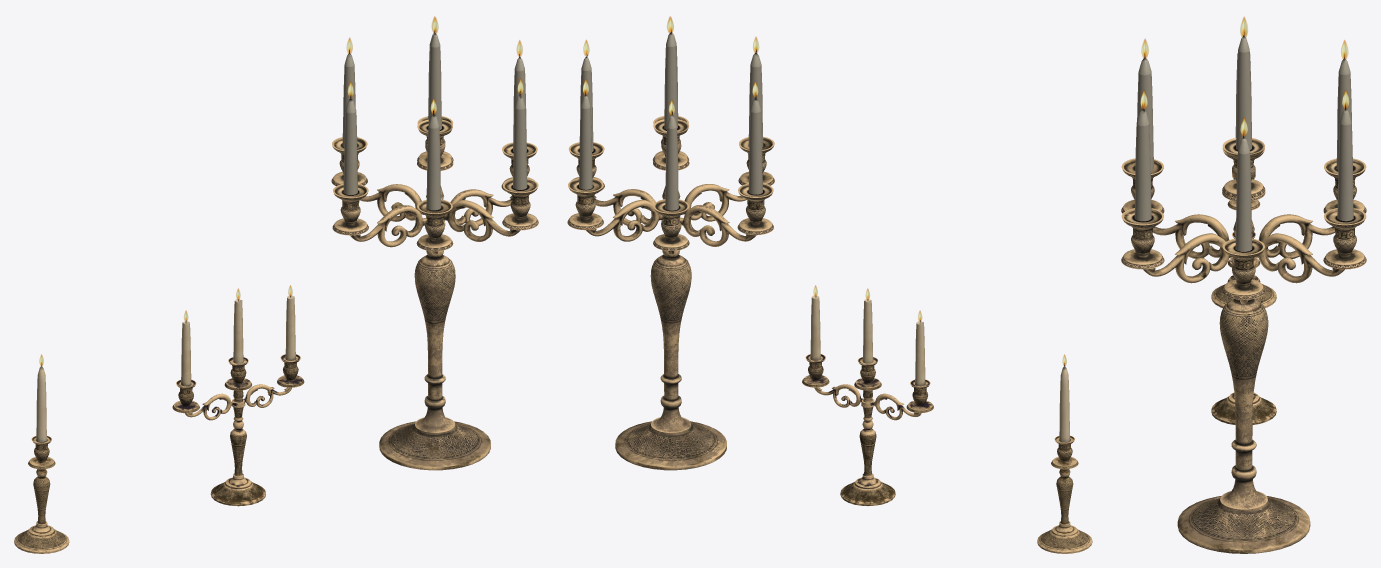
The model's file is candleholders.glb.
3 views of the same model, side by side, from view 1: azimuth 30°, elevation 25°; view 2: azimuth 150°, elevation 25°; view 3: azimuth 270°, elevation 25° (orthographic). The views are drawn at different scales.
Visible parts, largest first — view 1: brass_candleholder_03, brass_candleholder_02, brass_candleholder_01; view 2: brass_candleholder_03, brass_candleholder_02, brass_candleholder_01; view 3: brass_candleholder_03, brass_candleholder_02, brass_candleholder_01.
Boxes of the visible parts, x1,y1,x2,y2 form: brass_candleholder_03: (331,16,538,470); brass_candleholder_02: (172,285,304,506); brass_candleholder_01: (14,354,69,553); brass_candleholder_03: (567,16,774,470); brass_candleholder_02: (802,285,933,505); brass_candleholder_01: (1037,354,1092,553); brass_candleholder_03: (1121,17,1366,553); brass_candleholder_02: (1211,232,1276,424); brass_candleholder_01: (1211,174,1276,307).
Size of the model in its own units: 1.05 by 0.8353 by 0.3647.
Materials: 5 (5 with a texture image).
